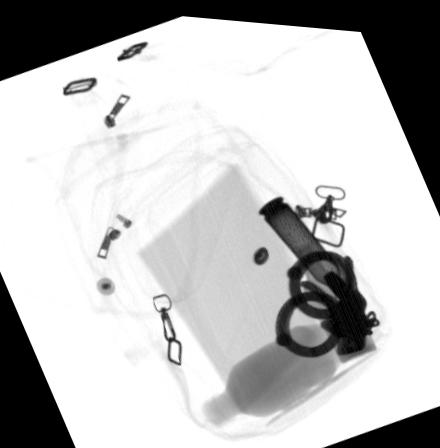Bullet: (256, 190, 359, 308)
HandCuffs: (274, 244, 380, 354)
